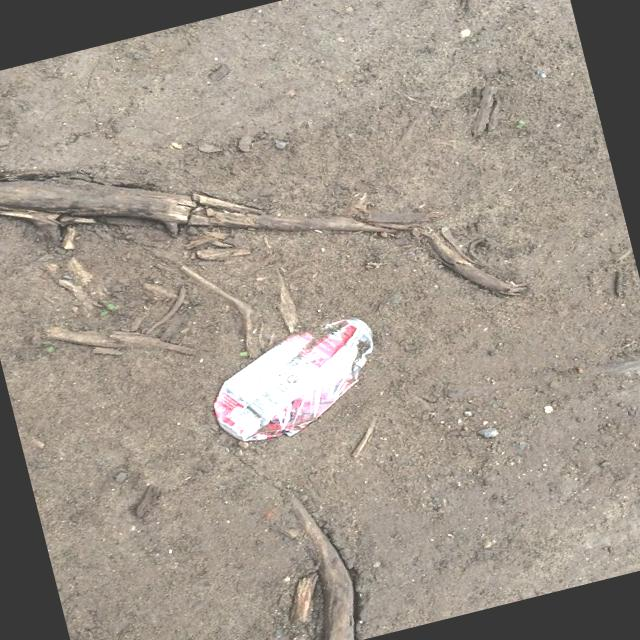Recycle: (195, 310, 392, 452)
